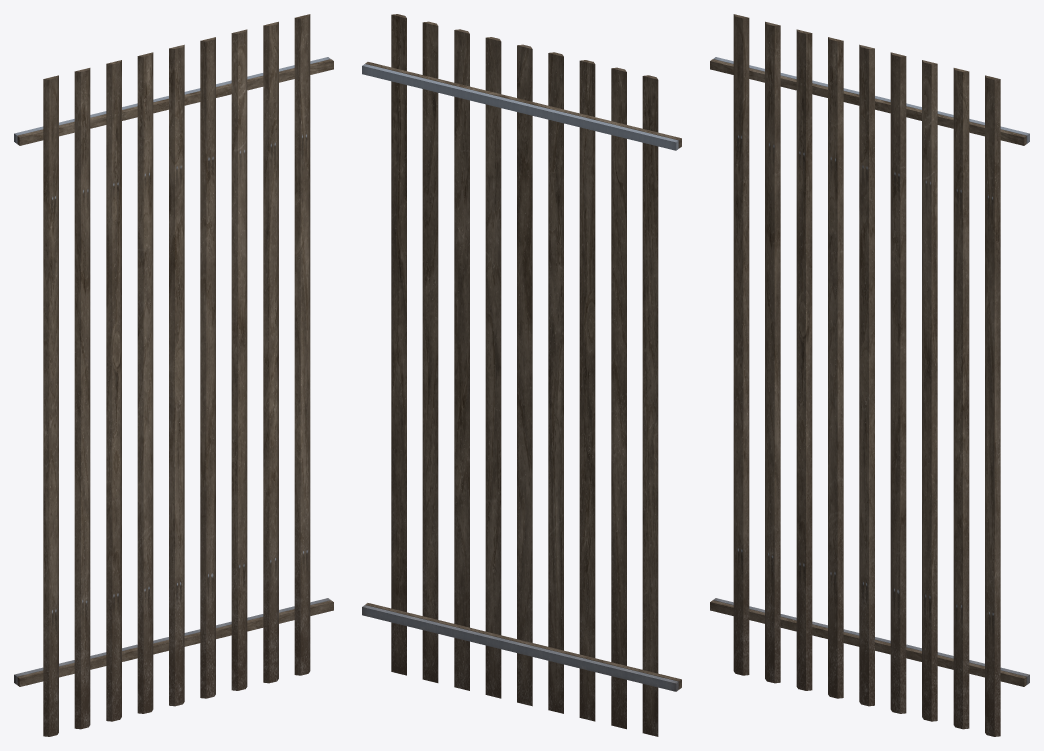
File: Prop_Fence_002_4M.fbx
3 views of the same model, side by side, from view 1: azimuth 30°, elevation 25°; view 2: azimuth 150°, elevation 25°; view 3: azimuth 330°, elevation 25° (orthographic).
Visible parts, largest first — view 1: Prop_Fence_002_4M; view 2: Prop_Fence_002_4M; view 3: Prop_Fence_002_4M.
Part boxes in pixels (x1,y1,x2,y2): Prop_Fence_002_4M: (14, 14, 333, 736); Prop_Fence_002_4M: (362, 14, 681, 736); Prop_Fence_002_4M: (710, 14, 1029, 736).
Bounding box in the file's own units: 200 × 400 × 8.65.
